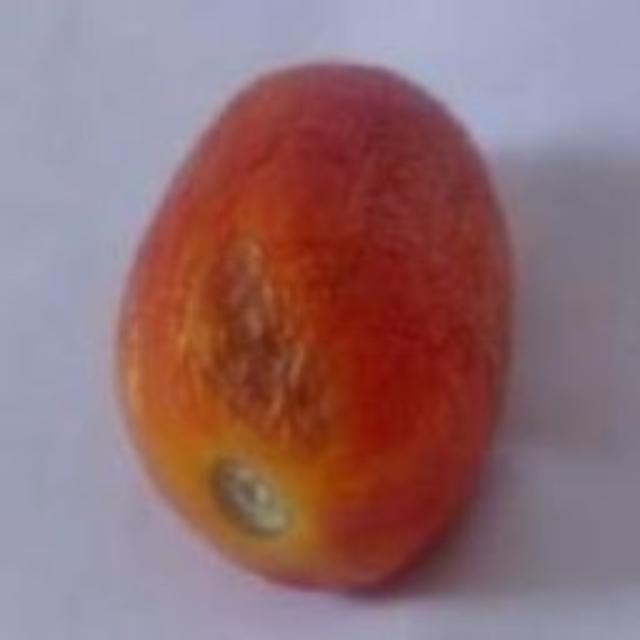defect: (113, 49, 521, 596)
